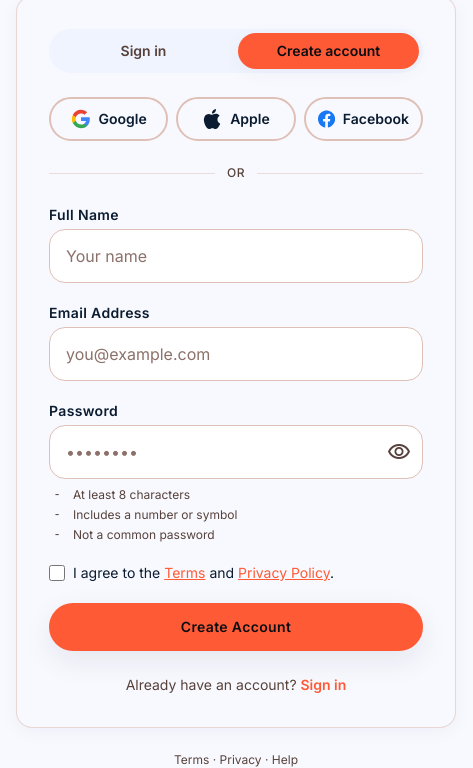
Test case: AuthForm — Sign Up mode › shows all required errors when submitting empty
(page scrolled)
Click the button "Create Account" at (236, 627), box x1=49 y1=603 x2=423 y2=651
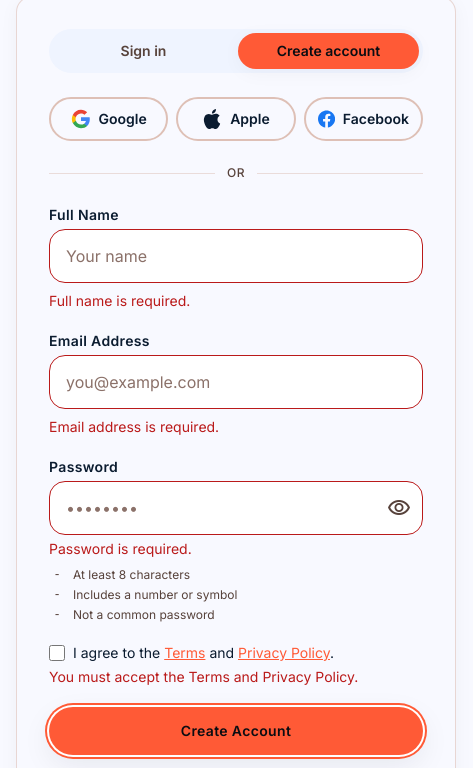
Result: the text "Full name is required." is shown at x1=49 y1=292 x2=190 y2=309
Result: the text "Email address is required." is shown at x1=49 y1=418 x2=219 y2=435
Result: the text "Password is required." is shown at x1=49 y1=540 x2=192 y2=557
